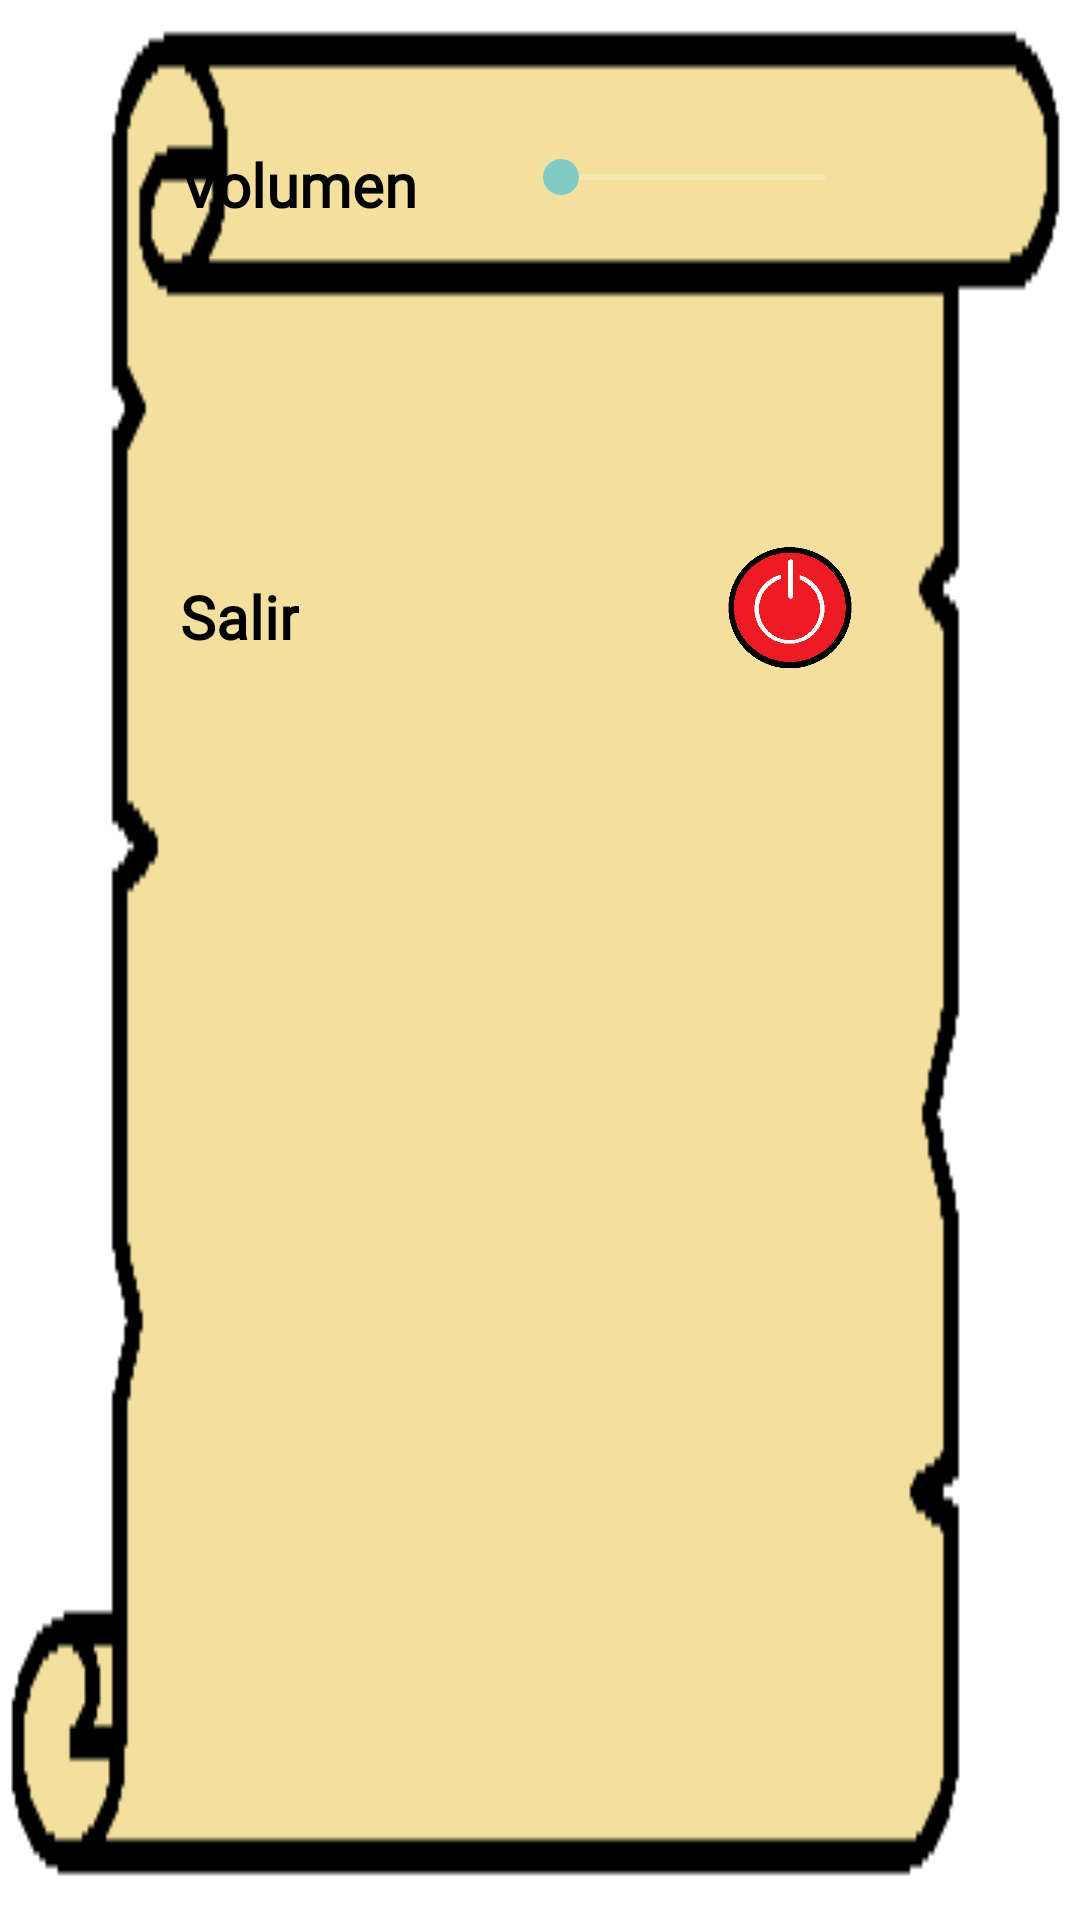

Where to tap for icons on this 1080w x 1920h app screen, as [x,y]:
salir: [790,607]
